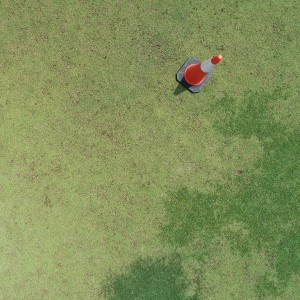traffic cone: (175, 54, 223, 94)
